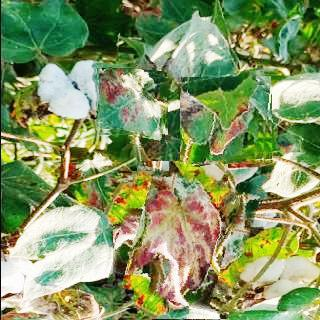blight: (112, 171, 252, 309), (179, 71, 273, 164), (96, 68, 169, 139)
